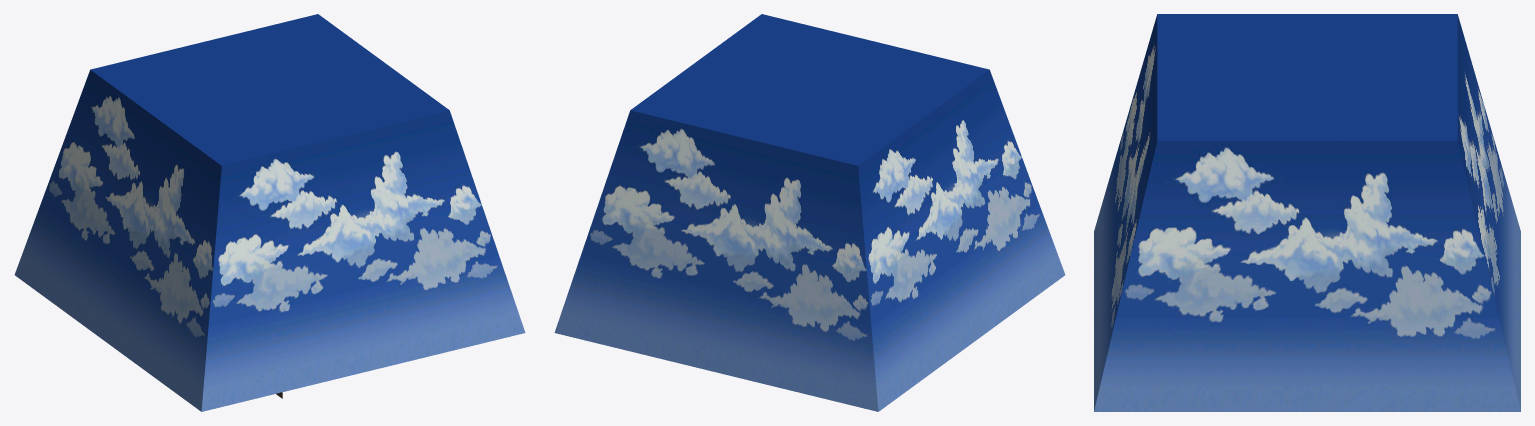
File: mry_nt_wall_000.FBX
The picture shows the model from 3 angles, left to right: view 1: azimuth 30°, elevation 25°; view 2: azimuth 150°, elevation 25°; view 3: azimuth 270°, elevation 25°; orthographic projection. The views are drawn at different scales.
Visible parts, largest first — view 1: objsky; view 2: objsky; view 3: objsky.
Boxes of the visible parts, x1,y1,x2,y2 form: objsky: [14, 14, 525, 411]; objsky: [554, 14, 1065, 411]; objsky: [1094, 14, 1520, 411].
Bounding box in the file's own units: 1584 × 1141 × 1584.
